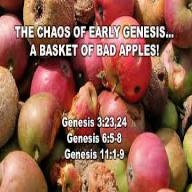apple: (101, 19, 152, 100), (27, 49, 79, 114), (18, 94, 63, 162), (20, 1, 74, 52), (128, 132, 171, 188), (61, 82, 98, 135), (144, 49, 170, 111), (164, 1, 190, 55), (85, 151, 116, 191), (48, 154, 82, 189)
